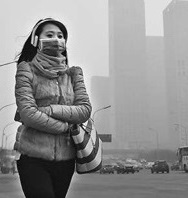person: (12, 16, 103, 198)
